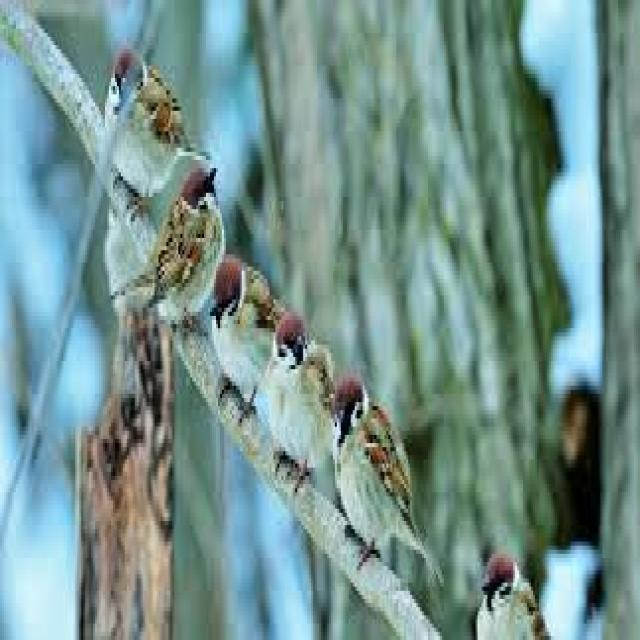bird: (331, 373, 447, 587), (96, 45, 211, 190), (207, 245, 292, 406), (269, 313, 345, 482), (473, 545, 552, 640)
